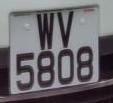0: (55, 46, 77, 89)
5: (13, 48, 38, 95)
8: (35, 49, 58, 90), (75, 42, 95, 87)
V: (55, 8, 76, 51)
W: (35, 8, 58, 53)
